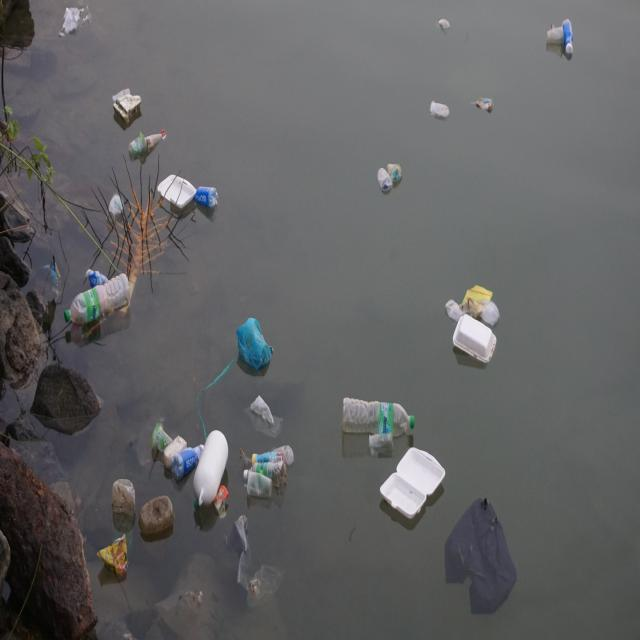Botol Plastik: (341, 394, 418, 445), (64, 269, 131, 326), (140, 493, 177, 538), (111, 479, 141, 522), (173, 443, 205, 480), (244, 461, 291, 484), (250, 448, 289, 469), (562, 16, 577, 59), (194, 186, 221, 209), (145, 128, 168, 153), (85, 266, 108, 286)
Bungkus Makanan: (380, 444, 447, 522), (453, 310, 498, 365), (158, 172, 198, 213), (99, 534, 132, 581), (462, 281, 493, 322), (475, 94, 496, 115)
Bungkus Minuman: (247, 474, 275, 502), (153, 421, 173, 451), (368, 433, 396, 454), (431, 101, 455, 125), (107, 193, 126, 223), (215, 485, 229, 521), (128, 132, 148, 155), (546, 22, 565, 46), (377, 167, 393, 194), (386, 161, 404, 184)
Kantong Plastik: (445, 495, 518, 617), (232, 514, 283, 608), (237, 316, 276, 375), (243, 397, 286, 438), (60, 4, 92, 39), (448, 297, 472, 322), (440, 18, 453, 35)
